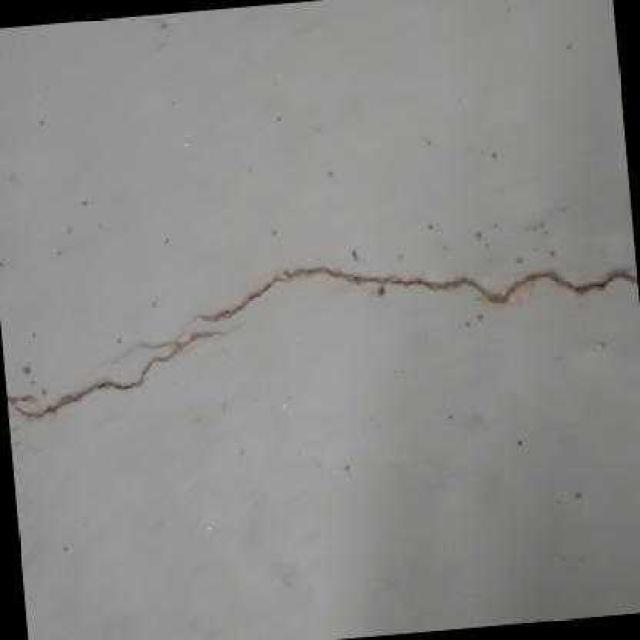D00: (196, 264, 638, 320), (6, 331, 222, 417)
